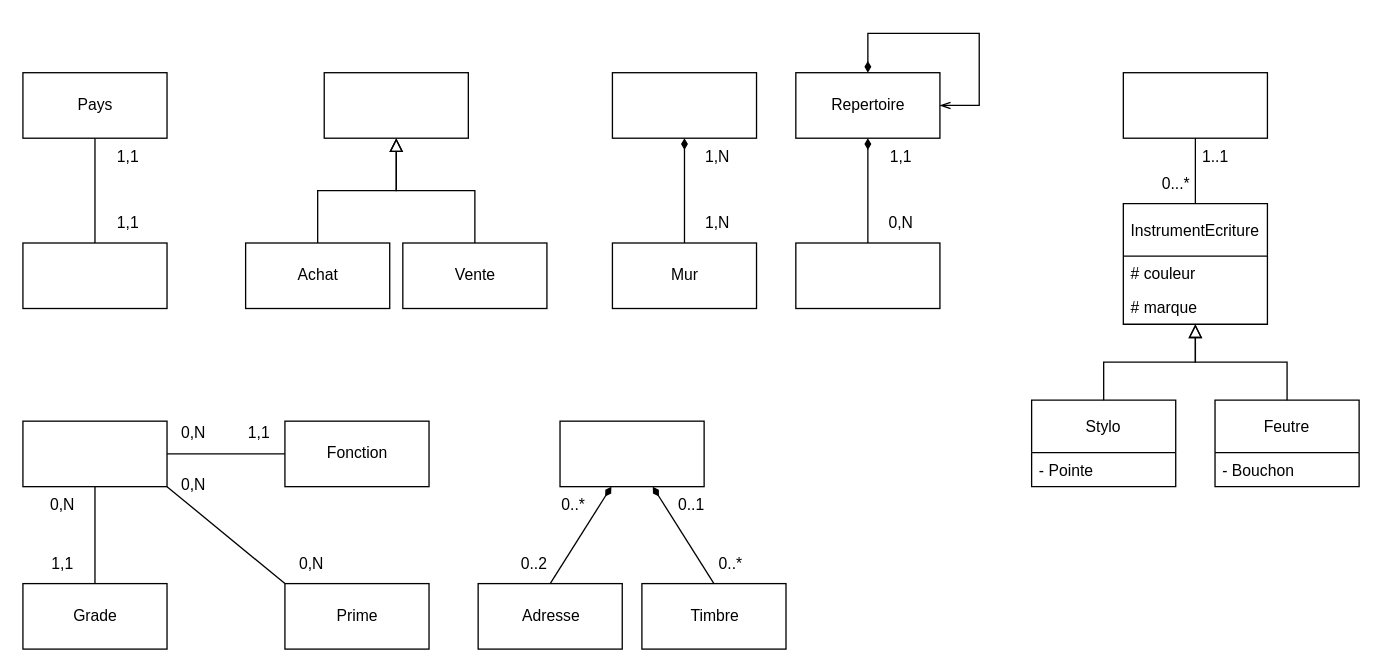
Some shapes in this 1382 by 672 pixel diagram are drawn without their labels. Here are the shapes that lost their labels. From the top down, the centre of each, then its label:
[395,104]: TransactionBoursiere
[684,104]: Piece
[1194,104]: Personne
[94,275]: Capitale
[867,275]: Fichier
[94,453]: Employe
[631,453]: Enveloppe
